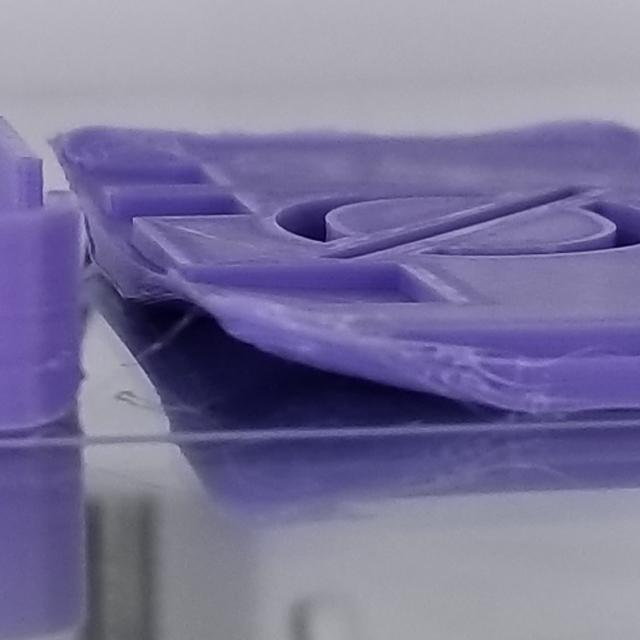Warping: (127, 286, 524, 432)
